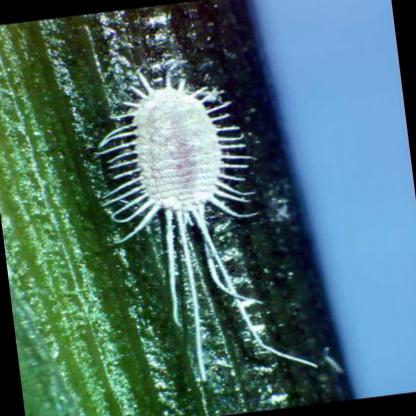mealy bug: (114, 74, 245, 328)
